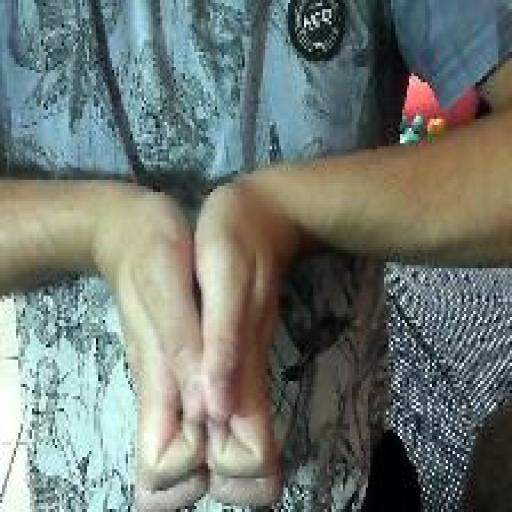I -boar-: (108, 173, 282, 512)
